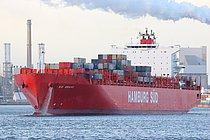Ship: (11, 53, 204, 118)
